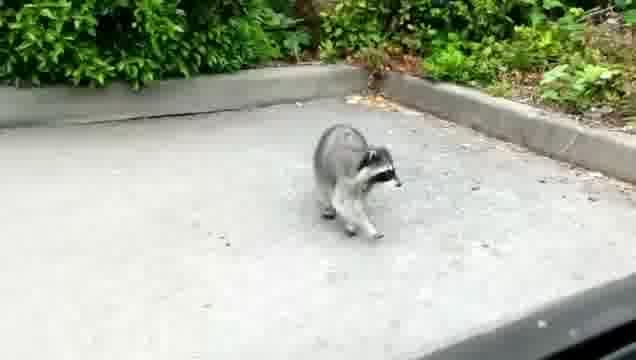raccoon: (311, 120, 408, 251)
